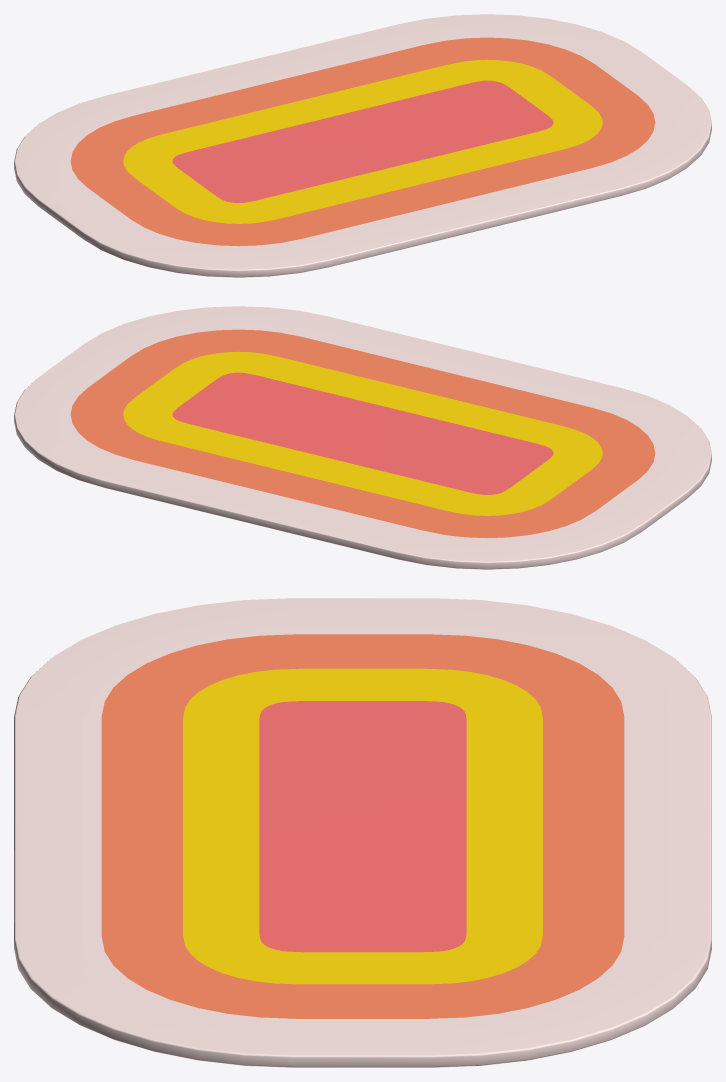
Rendered from Town_19_Carpet_1.glb.
3 renders of one model, top to bottom at view 1: azimuth 30°, elevation 25°; view 2: azimuth 150°, elevation 25°; view 3: azimuth 270°, elevation 25°, orthographic. The views are drawn at different scales.
Visible parts, largest first — view 1: Town_19_Carpet_1; view 2: Town_19_Carpet_1; view 3: Town_19_Carpet_1.
Part boxes in pixels (box(x1,y1,x2,y2)): Town_19_Carpet_1: box(14, 14, 711, 277); Town_19_Carpet_1: box(14, 306, 711, 569); Town_19_Carpet_1: box(14, 598, 711, 1067).
Bounding box in the file's own units: 2.61 × 0.034 × 1.68.
1 material, 1 textured.
